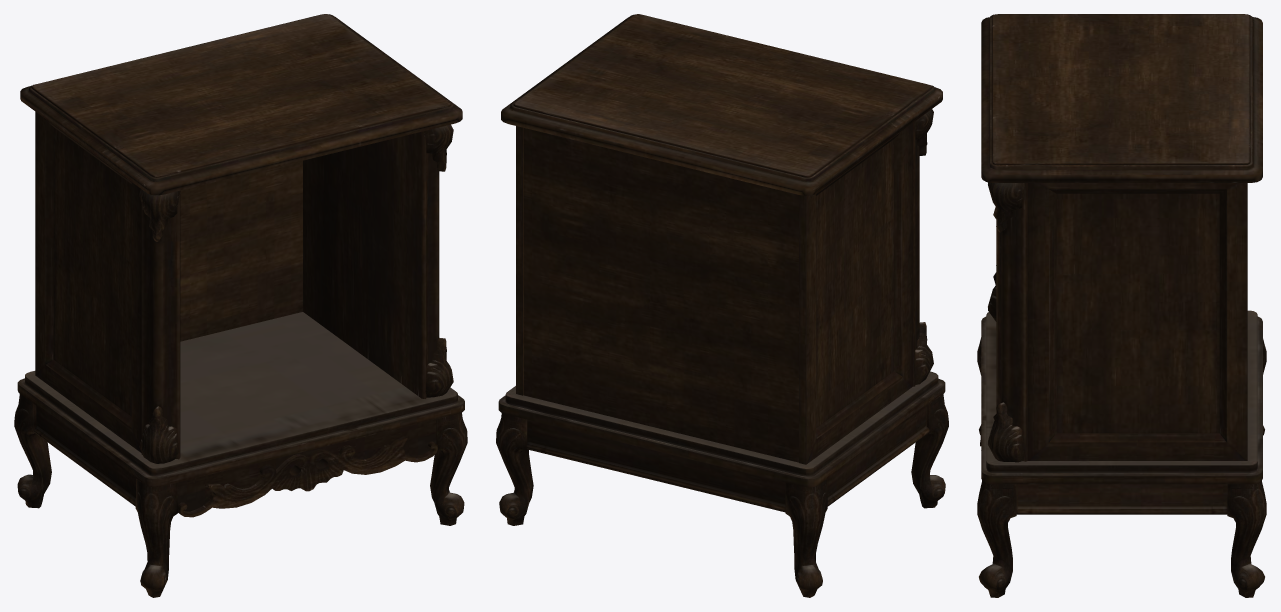
The model's file is ClassicNightstand_01_1k.obj.
The picture shows the model from 3 angles, left to right: view 1: azimuth 30°, elevation 25°; view 2: azimuth 150°, elevation 25°; view 3: azimuth 270°, elevation 25°; orthographic projection. The views are drawn at different scales.
Parts seen in each view (by area): view 1: ClassicNightstand_01; view 2: ClassicNightstand_01; view 3: ClassicNightstand_01.
Part boxes in pixels (<box>): ClassicNightstand_01: <box>14,14,467,597</box>; ClassicNightstand_01: <box>496,14,948,597</box>; ClassicNightstand_01: <box>977,14,1266,597</box>.
Size of the model in its own units: 0.5678 by 0.7 by 0.4242.
1 material, 1 textured.
